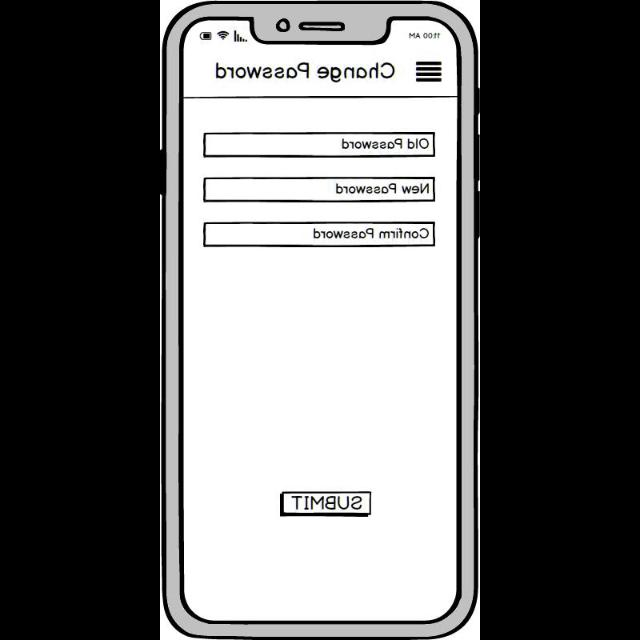icon: (414, 61, 442, 84)
input: (203, 132, 435, 158), (203, 177, 435, 203), (203, 222, 435, 248)
text: (216, 61, 396, 84)
textbutton: (280, 491, 372, 517)
toolbar: (184, 47, 456, 97)
